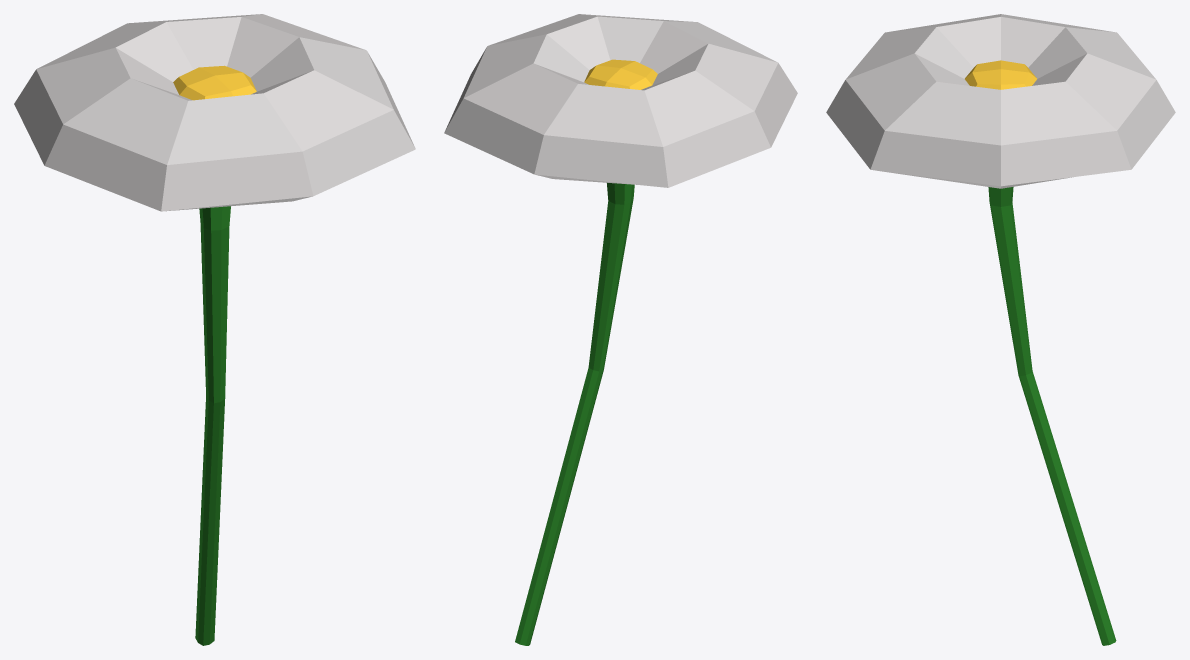
The model's file is flower.fbx.
3 renders of one model, left to right at view 1: azimuth 30°, elevation 25°; view 2: azimuth 150°, elevation 25°; view 3: azimuth 270°, elevation 25°, orthographic. The views are drawn at different scales.
Visible parts, largest first — view 1: Cube; view 2: Cube; view 3: Cube.
Part boxes in pixels (x1,y1,x2,y2): Cube: (14,14,415,645); Cube: (444,14,797,645); Cube: (826,14,1175,645).
Size of the model in its own units: 285 by 512 by 285.
